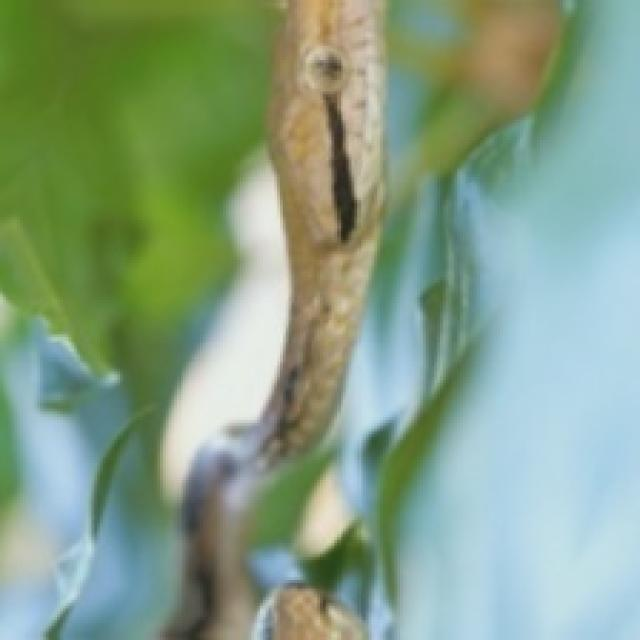dog-toothed cat snake: (163, 0, 383, 637)
